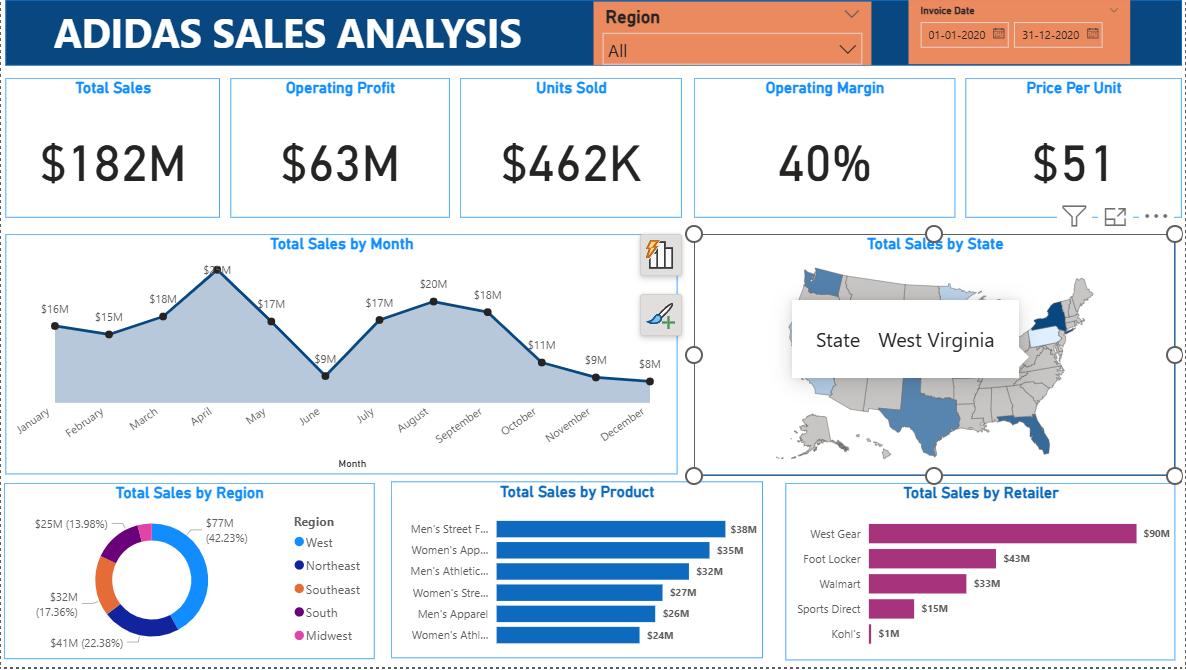

This screenshot's page, from the dashboard's own definition file:
{"tool":"powerbi","page":{"name":"Mini Project","canvas":[1280,720],"ordinal":0},"visuals":[{"type":"shape","box":[4.1,0,1269.9,70.9],"z":0},{"type":"textbox","box":[51.6,0,542.1,71.5],"z":1000},{"type":"card","title":" Total Sales","fields":{"Values":["Sum(Table1.Total Sales)"]},"box":[4.9,84.2,231.5,150.6],"z":2000},{"type":"card","title":" Operating Profit","fields":{"Values":["Sum(Table1.Operating Profit)"]},"box":[247.7,84.2,236.4,150.6],"z":3000},{"type":"card","title":" Units Sold","fields":{"Values":["Sum(Table1.Units Sold)"]},"box":[495.5,84.2,239.6,150.6],"z":4000},{"type":"card","title":" Operating Margin","fields":{"Values":["Table1.Average_operating_margin"]},"box":[748.1,84.2,281.7,150.6],"z":5000},{"type":"card","title":" Price Per Unit","fields":{"Values":["Table1.Average_price_per_unit"]},"box":[1041.2,84.2,233.2,150.6],"z":6000},{"type":"areaChart","title":" Total Sales by Month","fields":{"Y":["Sum(Table1.Total Sales)"],"Category":["Table1.Invoice Date.Variation.Date Hierarchy.Month"]},"box":[4.1,253.2,725.1,259.2],"z":7000},{"type":"shapeMap","title":"Total Sales by State","fields":{"Category":["Table1.State"],"Value":["Sum(Table1.Total Sales)"]},"box":[747.3,253.2,520,260],"z":8000},{"type":"donutChart","title":"Total Sales by Region","fields":{"Category":["Table1.Region"],"Y":["Sum(Table1.Total Sales)"]},"box":[3.2,521.4,400,190],"z":9000},{"type":"barChart","title":" Total Sales by Product","fields":{"Category":["Table1.Product"],"Y":["Sum(Table1.Total Sales)"]},"box":[421.3,520.5,401,190.4],"z":10000},{"type":"barChart","title":" Total Sales by Retailer","fields":{"Category":["Table1.Retailer"],"Y":["Sum(Table1.Total Sales)"]},"box":[846.9,521.4,421,191.1],"z":11000},{"type":"slicer","fields":{"Values":["Table1.Region"]},"box":[640,2,299.7,68.9],"z":12000},{"type":"slicer","fields":{"Values":["Table1.Invoice Date"]},"box":[979.6,0,239.6,69.6],"z":13000}]}

Visuals, with their boxes in screenshot pixels (x1, y1, x2, y2), scaled from the page's 1280x720 canvas onto the 1186x670 screenshot:
shape: (x1=4, y1=0, x2=1180, y2=66)
textbox: (x1=48, y1=0, x2=550, y2=67)
" Total Sales" card: (x1=5, y1=78, x2=219, y2=218)
" Operating Profit" card: (x1=230, y1=78, x2=449, y2=218)
" Units Sold" card: (x1=459, y1=78, x2=681, y2=218)
" Operating Margin" card: (x1=693, y1=78, x2=954, y2=218)
" Price Per Unit" card: (x1=965, y1=78, x2=1181, y2=218)
" Total Sales by Month" areaChart: (x1=4, y1=236, x2=676, y2=477)
"Total Sales by State" shapeMap: (x1=692, y1=236, x2=1174, y2=478)
"Total Sales by Region" donutChart: (x1=3, y1=485, x2=374, y2=662)
" Total Sales by Product" barChart: (x1=390, y1=484, x2=762, y2=662)
" Total Sales by Retailer" barChart: (x1=785, y1=485, x2=1175, y2=663)
slicer - Table1.Region: (x1=593, y1=2, x2=871, y2=66)
slicer - Table1.Invoice Date: (x1=908, y1=0, x2=1130, y2=65)
